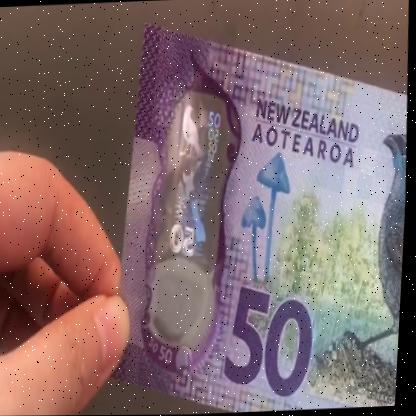50B: (154, 102, 231, 334)
